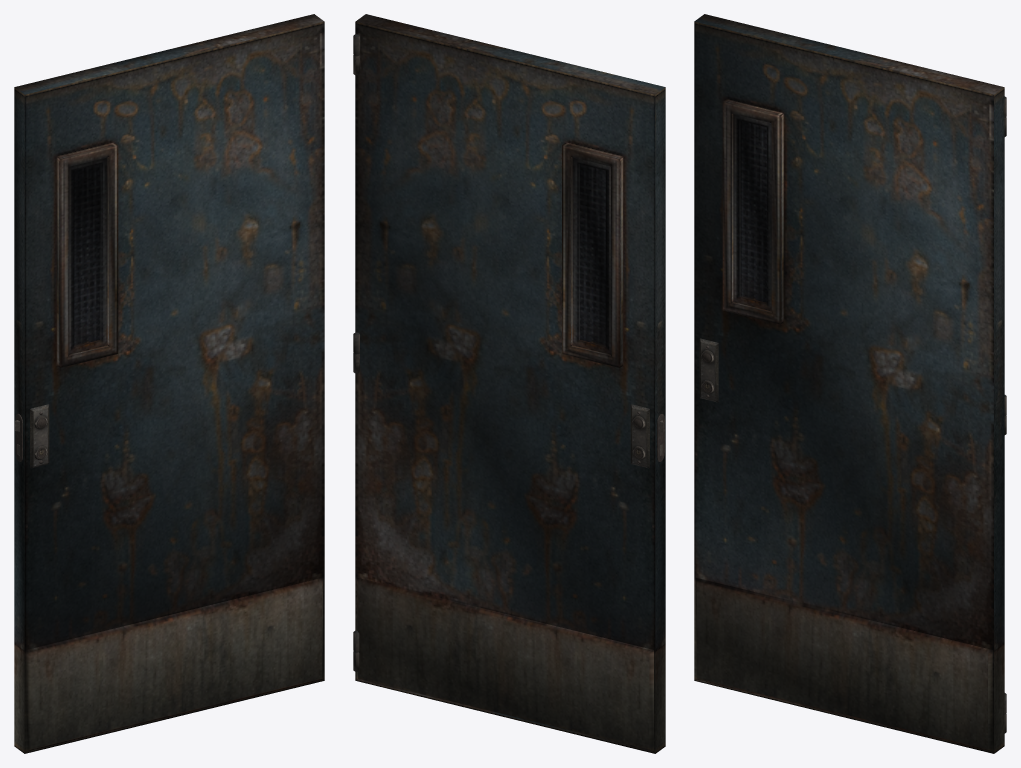
Rendered from door_3.fbx.
The picture shows the model from 3 angles, left to right: view 1: azimuth 30°, elevation 25°; view 2: azimuth 150°, elevation 25°; view 3: azimuth 330°, elevation 25°; orthographic projection.
Visible parts, largest first — view 1: door_3; view 2: door_3; view 3: door_3.
Boxes of the visible parts, <box> form: door_3: <box>14,14,324,753</box>; door_3: <box>353,14,665,753</box>; door_3: <box>694,14,1006,753</box>.
Size of the model in its own units: 101 by 210 by 10.
